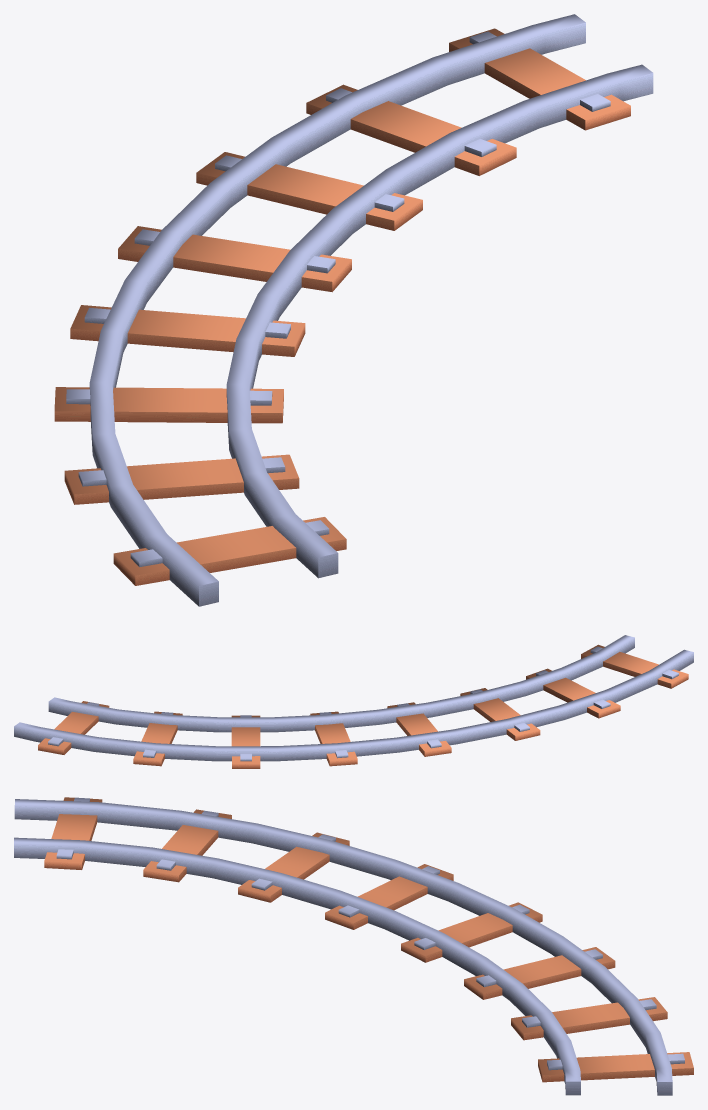
Rendered from railroad-corner-large_lev2.glb.
3 views of the same model, one above another, from view 1: azimuth 30°, elevation 25°; view 2: azimuth 150°, elevation 25°; view 3: azimuth 270°, elevation 25° (orthographic). The views are drawn at different scales.
Visible parts, largest first — view 1: railroad-corner-large_lev2; view 2: railroad-corner-large_lev2; view 3: railroad-corner-large_lev2.
Part boxes in pixels (box(x1,y1,x2,y2)): railroad-corner-large_lev2: box(54, 14, 653, 606); railroad-corner-large_lev2: box(14, 635, 693, 768); railroad-corner-large_lev2: box(14, 797, 693, 1095).
Size of the model in its own units: 4.52 by 0.1 by 4.46.
Materials: 1 (1 with a texture image).
